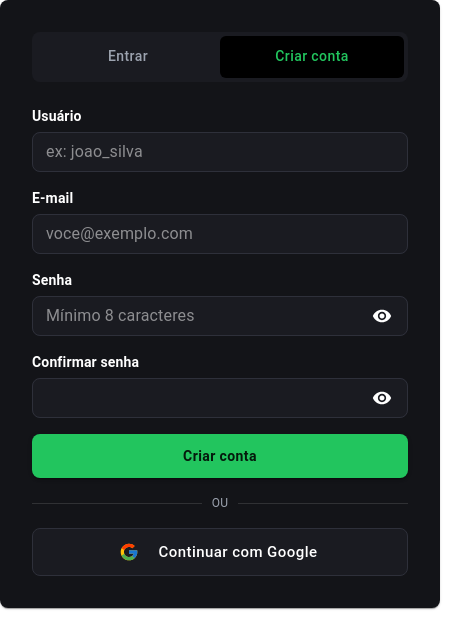
Test case: shows login form when login tab is clicked
Click the tab "Entrar" at (128, 57), box [36,36,220,78]
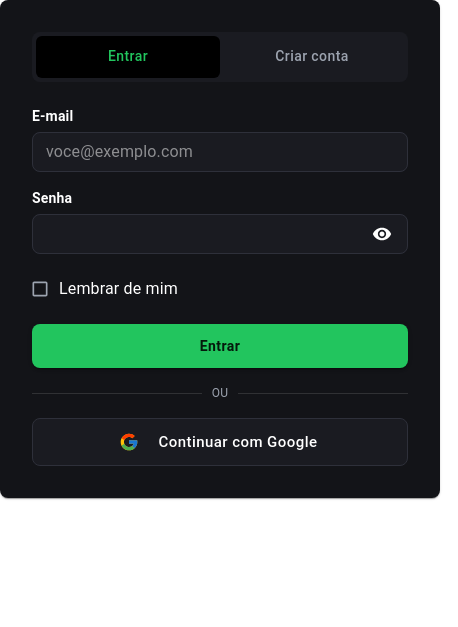
Check: the field with placeholder "voce@exemplo.com" is shown, box [32,132,408,172]
